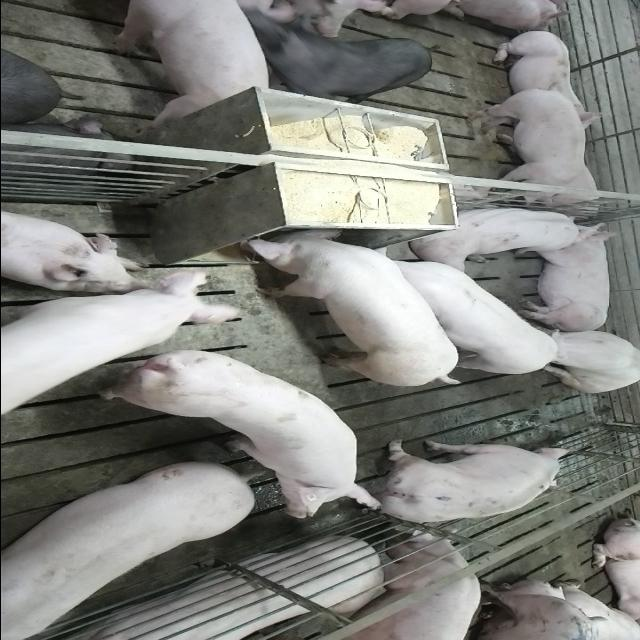Feeding: (232, 220, 466, 384)
Lateral_lying: (47, 537, 411, 640), (513, 224, 617, 334)
Sitting: (526, 324, 639, 394)
Standing: (85, 345, 373, 517), (0, 465, 256, 640), (358, 249, 562, 379), (102, 2, 272, 134), (356, 436, 570, 524), (462, 84, 596, 212), (341, 534, 479, 640)
Sternal_lying: (406, 202, 598, 266), (2, 204, 148, 288), (487, 30, 609, 126)
